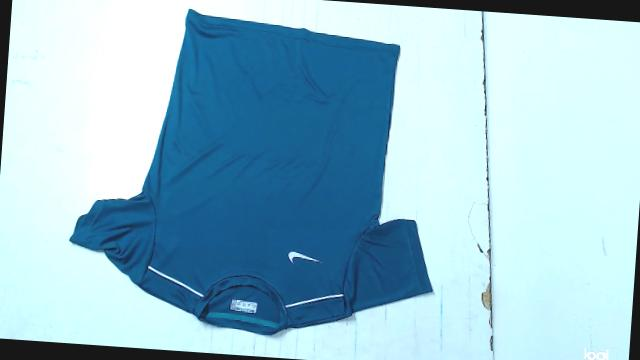new-garment: (70, 9, 431, 334)
